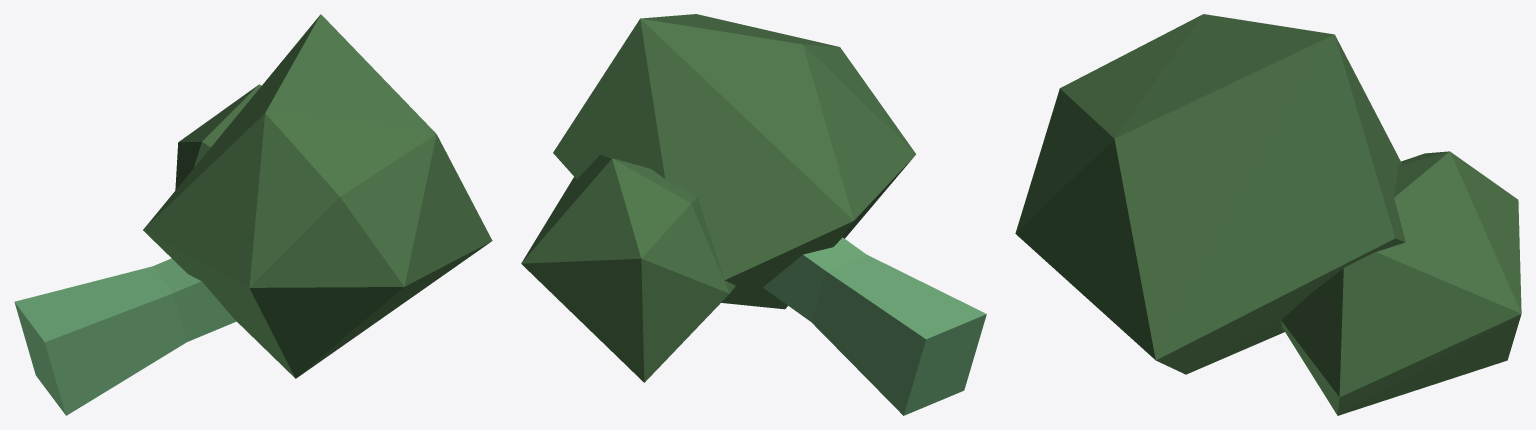
File: broccoliSingle.fbx
The picture shows the model from 3 angles, left to right: view 1: azimuth 30°, elevation 25°; view 2: azimuth 150°, elevation 25°; view 3: azimuth 270°, elevation 25°; orthographic projection. The views are drawn at different scales.
Visible parts, largest first — view 1: broccoliSingle; view 2: broccoliSingle; view 3: broccoliSingle.
Boxes of the visible parts, x1,y1,x2,y2 form: broccoliSingle: (14,14,492,415); broccoliSingle: (521,14,986,415); broccoliSingle: (1015,14,1521,415).
Bounding box in the file's own units: 9.13 × 6.65 × 7.56.
1 material, 1 textured.
